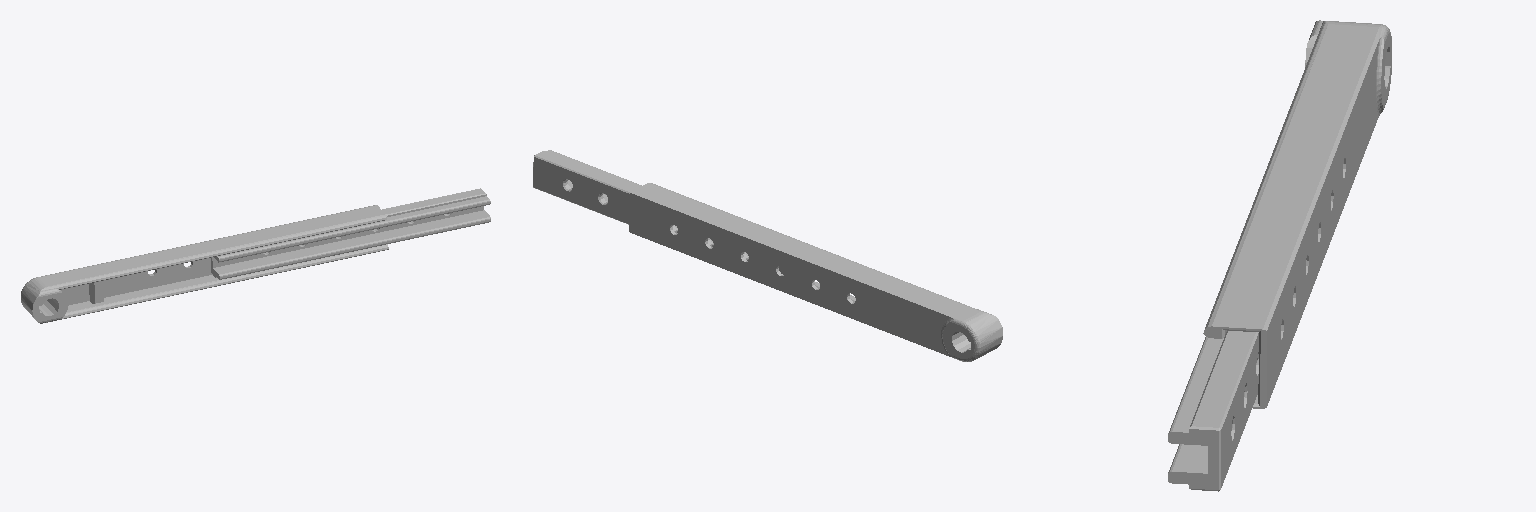
robot.urdf — Exo:
<?xml version="1.0" encoding="utf-8"?>
<!-- This URDF was automatically created by SolidWorks to URDF Exporter! Originally created by [author] ([email redacted]) 
     Commit Version: 1.6.0-4-g7f85cfe  Build Version: 1.6.7995.38578
     For more information, please see http://wiki.ros.org/sw_urdf_exporter -->
<robot
  name="Exo">
  <link
    name="base_link">
    <inertial>
      <origin
        xyz="-0.083621 -0.18258 -0.0087548"
        rpy="0 0 0" />
      <mass
        value="2.5151" />
      <inertia
        ixx="0.022882"
        ixy="-2.4105E-05"
        ixz="-2.2141E-06"
        iyy="0.0083528"
        iyz="-2.9427E-06"
        izz="0.016089" />
    </inertial>
    <visual>
      <origin
        xyz="0 0 0"
        rpy="0 0 0" />
      <geometry>
        <mesh
          filename="package://Exo/meshes/base_link.STL" />
      </geometry>
      <material
        name="">
        <color
          rgba="0.74902 0.74902 0.74902 1" />
      </material>
    </visual>
    <collision>
      <origin
        xyz="0 0 0"
        rpy="0 0 0" />
      <geometry>
        <mesh
          filename="package://Exo/meshes/base_link.STL" />
      </geometry>
    </collision>
  </link>
  <link
    name="link_1">
    <inertial>
      <origin
        xyz="0.015315 0.1114 0.1143"
        rpy="0 0 0" />
      <mass
        value="1.1771" />
      <inertia
        ixx="0.0010548"
        ixy="-3.2613E-05"
        ixz="-2.7034E-05"
        iyy="0.00081243"
        iyz="-2.1067E-05"
        izz="0.00047305" />
    </inertial>
    <visual>
      <origin
        xyz="0 0 0"
        rpy="0 0 0" />
      <geometry>
        <mesh
          filename="package://Exo/meshes/link_1.STL" />
      </geometry>
      <material
        name="">
        <color
          rgba="0.75294 0.75294 0.75294 1" />
      </material>
    </visual>
    <collision>
      <origin
        xyz="0 0 0"
        rpy="0 0 0" />
      <geometry>
        <mesh
          filename="package://Exo/meshes/link_1.STL" />
      </geometry>
    </collision>
  </link>
  <joint
    name="Joint_1"
    type="revolute">
    <origin
      xyz="-0.15577 0.0088052 -0.26586"
      rpy="-0.00036153 -0.00029771 -3.1416" />
    <parent
      link="base_link" />
    <child
      link="link_1" />
    <axis
      xyz="0 0 -1" />
    <limit
      lower="-3.14"
      upper="3.14"
      effort="50"
      velocity="3.49" />
  </joint>
  <link
    name="link_2">
    <inertial>
      <origin
        xyz="-0.0049684 0.19041 0.042949"
        rpy="0 0 0" />
      <mass
        value="1.1565" />
      <inertia
        ixx="0.0010548"
        ixy="-1.9387E-05"
        ixz="2.3509E-08"
        iyy="0.00039566"
        iyz="-2.1281E-06"
        izz="0.00087969" />
    </inertial>
    <visual>
      <origin
        xyz="0 0 0"
        rpy="0 0 0" />
      <geometry>
        <mesh
          filename="package://Exo/meshes/link_2.STL" />
      </geometry>
      <material
        name="">
        <color
          rgba="0.75294 0.75294 0.75294 1" />
      </material>
    </visual>
    <collision>
      <origin
        xyz="0 0 0"
        rpy="0 0 0" />
      <geometry>
        <mesh
          filename="package://Exo/meshes/link_2.STL" />
      </geometry>
    </collision>
  </link>
  <joint
    name="joint_2"
    type="revolute">
    <origin
      xyz="-0.022632 0.12204 0.13076"
      rpy="0 -1.5705 -0.13202" />
    <parent
      link="link_1" />
    <child
      link="link_2" />
    <axis
      xyz="0.00029771 0 -1" />
    <limit
      lower="-3.14"
      upper="3.14"
      effort="50"
      velocity="3.49" />
  </joint>
  <link
    name="link_3">
    <inertial>
      <origin
        xyz="0.01069 -0.18785 0.044015"
        rpy="0 0 0" />
      <mass
        value="1.1562" />
      <inertia
        ixx="0.0010533"
        ixy="3.7117E-05"
        ixz="6.9363E-08"
        iyy="0.00039648"
        iyz="-1.6221E-06"
        izz="0.0008792" />
    </inertial>
    <visual>
      <origin
        xyz="0 0 0"
        rpy="0 0 0" />
      <geometry>
        <mesh
          filename="package://Exo/meshes/link_3.STL" />
      </geometry>
      <material
        name="">
        <color
          rgba="0.75294 0.75294 0.75294 1" />
      </material>
    </visual>
    <collision>
      <origin
        xyz="0 0 0"
        rpy="0 0 0" />
      <geometry>
        <mesh
          filename="package://Exo/meshes/link_3.STL" />
      </geometry>
    </collision>
  </link>
  <joint
    name="joint_3"
    type="revolute">
    <origin
      xyz="-0.044215 0.20456 0.045987"
      rpy="-1.5711 0 1.5718" />
    <parent
      link="link_2" />
    <child
      link="link_3" />
    <axis
      xyz="0 0 -1" />
    <limit
      lower="-3.14"
      upper="3.14"
      effort="50"
      velocity="3.49" />
  </joint>
  <link
    name="link_4">
    <inertial>
      <origin
        xyz="0.054034 0.25263 -0.030072"
        rpy="0 0 0" />
      <mass
        value="1.19" />
      <inertia
        ixx="0.0011218"
        ixy="-8.5772E-05"
        ixz="2.6176E-06"
        iyy="0.00041039"
        iyz="2.432E-05"
        izz="0.0013155" />
    </inertial>
    <visual>
      <origin
        xyz="0 0 0"
        rpy="0 0 0" />
      <geometry>
        <mesh
          filename="package://Exo/meshes/link_4.STL" />
      </geometry>
      <material
        name="">
        <color
          rgba="0.75294 0.75294 0.75294 1" />
      </material>
    </visual>
    <collision>
      <origin
        xyz="0 0 0"
        rpy="0 0 0" />
      <geometry>
        <mesh
          filename="package://Exo/meshes/link_4.STL" />
      </geometry>
    </collision>
  </link>
  <joint
    name="joint_4"
    type="revolute">
    <origin
      xyz="-0.030338 -0.20242 0.047"
      rpy="1.5708 0 -1.5573" />
    <parent
      link="link_3" />
    <child
      link="link_4" />
    <axis
      xyz="0.00029771 0 -1" />
    <limit
      lower="-3.14"
      upper="3.14"
      effort="50"
      velocity="3.49" />
  </joint>
  <link
    name="link_5">
    <inertial>
      <origin
        xyz="0.005486 -0.11814 -0.007807"
        rpy="0 0 0" />
      <mass
        value="0.073555" />
      <inertia
        ixx="0.00021003"
        ixy="9.5448E-06"
        ixz="-6.2259E-08"
        iyy="4.8819E-06"
        iyz="1.3827E-06"
        izz="0.00021197" />
    </inertial>
    <visual>
      <origin
        xyz="0 0 0"
        rpy="0 0 0" />
      <geometry>
        <mesh
          filename="package://Exo/meshes/link_5.STL" />
      </geometry>
      <material
        name="">
        <color
          rgba="0.75294 0.75294 0.75294 1" />
      </material>
    </visual>
    <collision>
      <origin
        xyz="0 0 0"
        rpy="0 0 0" />
      <geometry>
        <mesh
          filename="package://Exo/meshes/link_5.STL" />
      </geometry>
    </collision>
  </link>
  <joint
    name="joint_5"
    type="revolute">
    <origin
      xyz="0.058369 0.27168 0.010017"
      rpy="-0.00029641 -2.7787E-05 1.4773" />
    <parent
      link="link_4" />
    <child
      link="link_5" />
    <axis
      xyz="0 0 -1" />
    <limit
      lower="-3.14"
      upper="3.14"
      effort="50"
      velocity="3.49" />
  </joint>
</robot>

--- Render facts (derived) ---
3 views of the same robot in one strip: view 1: azimuth 30°, elevation 25°; view 2: azimuth 150°, elevation 25°; view 3: azimuth 270°, elevation 25° (orthographic).
Robot: Exo — 6 links, 5 joints (5 revolute); root link base_link; default pose: all joints at 0.
Visible links, largest first — view 1: link_5; view 2: link_5; view 3: link_5.
Boxes of the visible links, x1,y1,x2,y2 form: link_5: (21,188,490,323); link_5: (533,150,1002,361); link_5: (1168,20,1391,491).
Size in the robot's own frame: 0.2535 by 0.0523 by 0.0294 metres.
Meshes: 6 distinct files referenced, 1 mesh visuals loaded (1 binary STL); not drawn: 5 (reference not matched to a file when rendering).